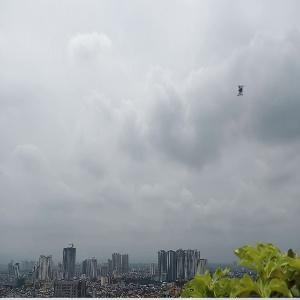drone: (225, 76, 257, 108)
